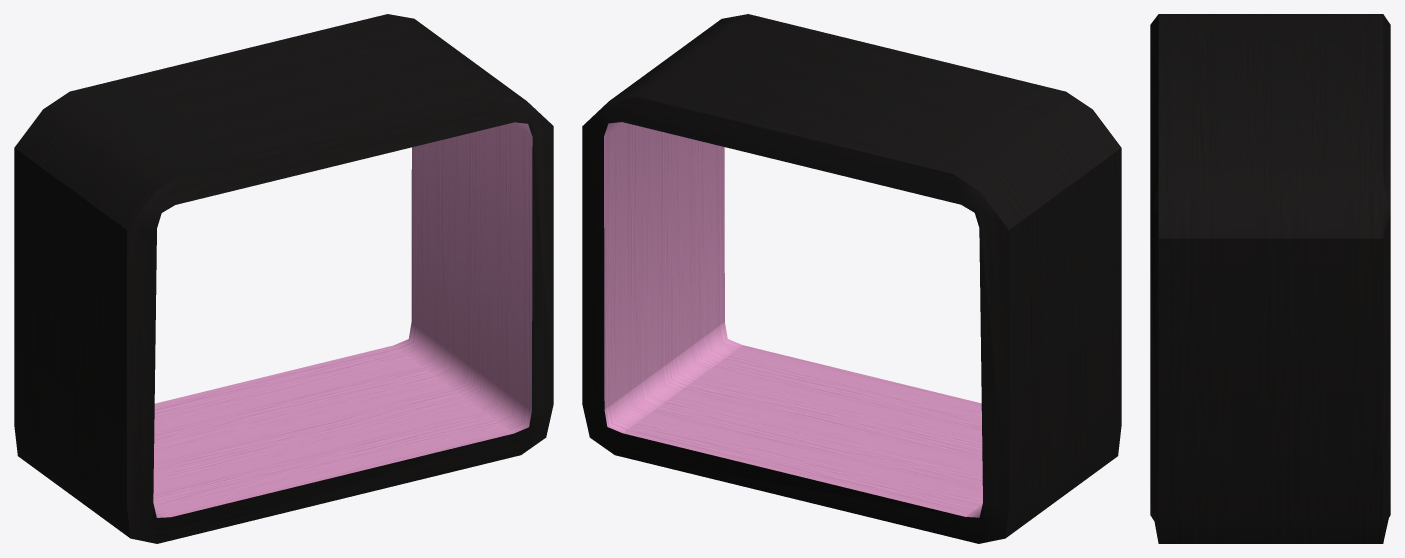
Rendered from Wall_Shelf_02_N.FBX.
3 renders of one model, left to right at view 1: azimuth 30°, elevation 25°; view 2: azimuth 150°, elevation 25°; view 3: azimuth 270°, elevation 25°, orthographic.
Parts seen in each view (by area): view 1: Wall_Shelf_02; view 2: Wall_Shelf_02; view 3: Wall_Shelf_02.
Part boxes in pixels (x1,y1,x2,y2): Wall_Shelf_02: [14, 14, 553, 543]; Wall_Shelf_02: [582, 14, 1121, 543]; Wall_Shelf_02: [1150, 14, 1390, 543].
Size of the model in its own units: 120 by 98.08 by 58.85.
